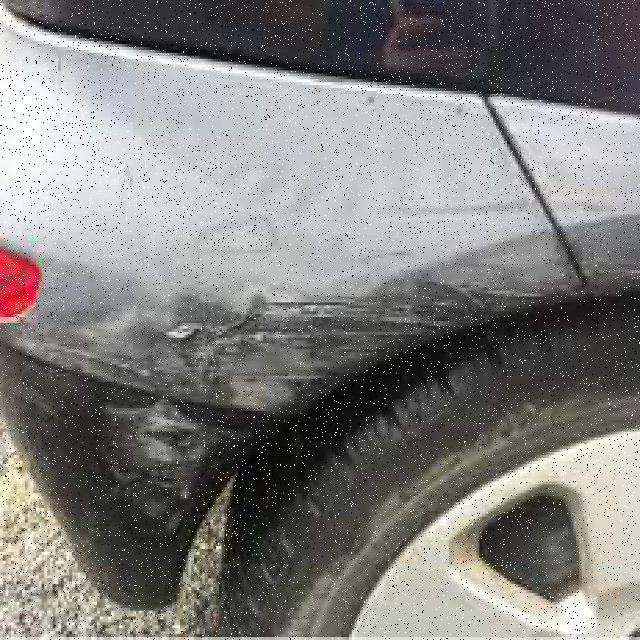rear-bumper-dent: (0, 35, 582, 608)
